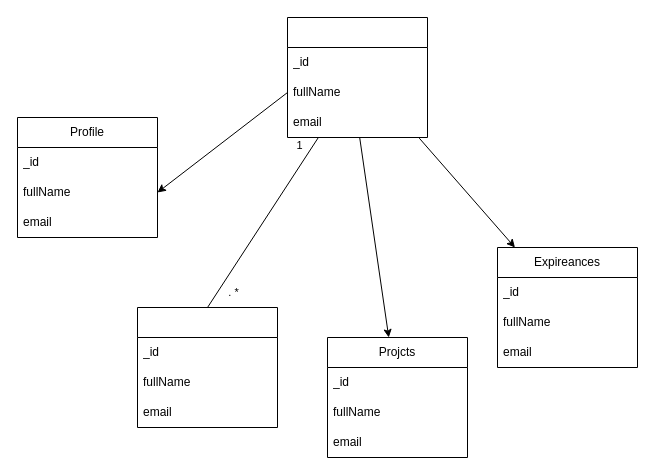
Some shapes in this 655 by 475 pixel diagram are drawn without their labels. The box of each missing label's shape, as (x1, y1, x2, y2) in pixels:
Skills: (136, 306, 278, 428)
User: (286, 16, 428, 138)
